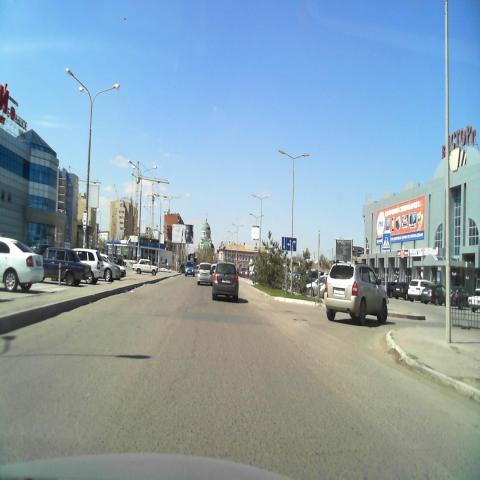5_15_7: (282, 237, 296, 251)
